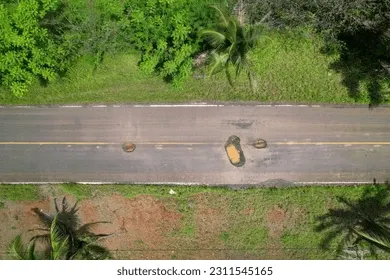D20: (80, 193, 180, 263), (221, 132, 249, 170), (255, 152, 281, 170), (89, 230, 112, 244)
D40: (125, 238, 175, 263), (224, 116, 257, 132), (245, 136, 271, 152), (119, 140, 139, 156)
